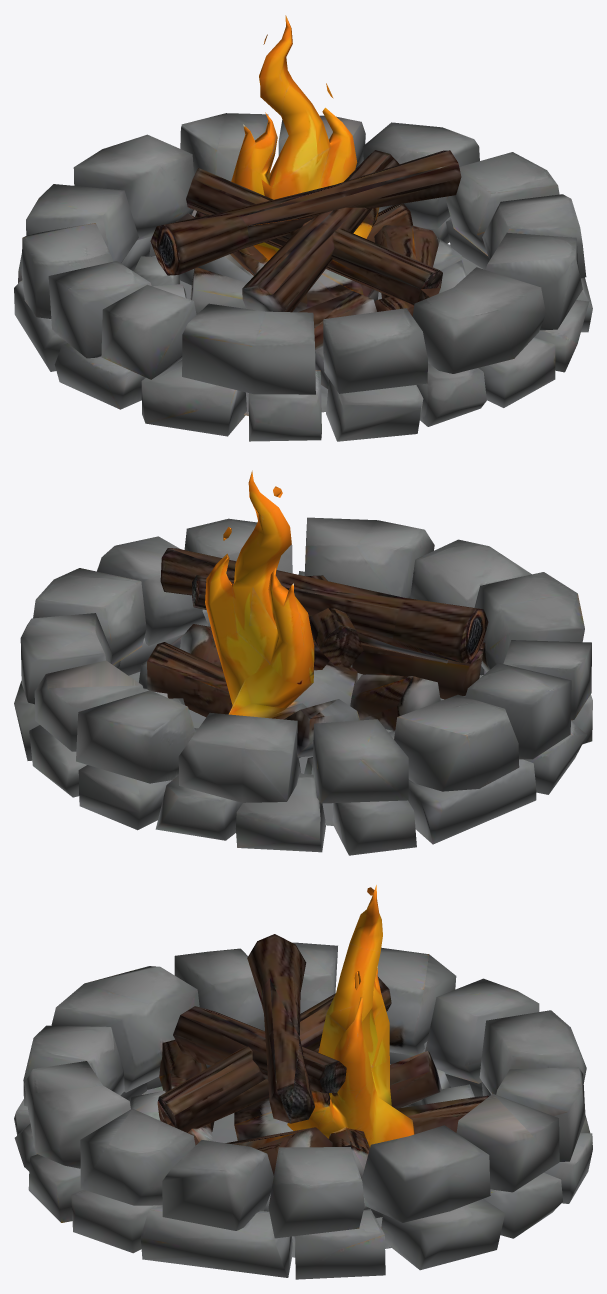
Rendered from campfire.glb.
3 views of the same model, one above another, from view 1: azimuth 30°, elevation 25°; view 2: azimuth 150°, elevation 25°; view 3: azimuth 270°, elevation 25° (orthographic).
Size of the model in its own units: 0.9609 by 0.5215 by 0.9575.
1 material, 1 textured.
